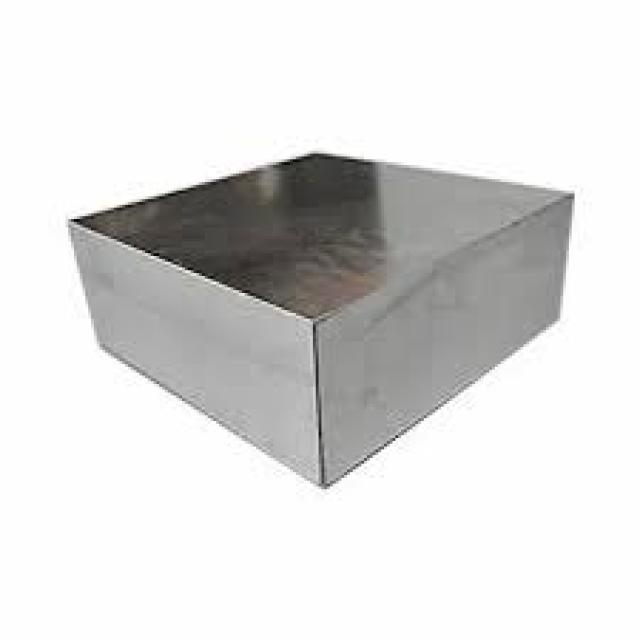Milling: (38, 110, 608, 515)
